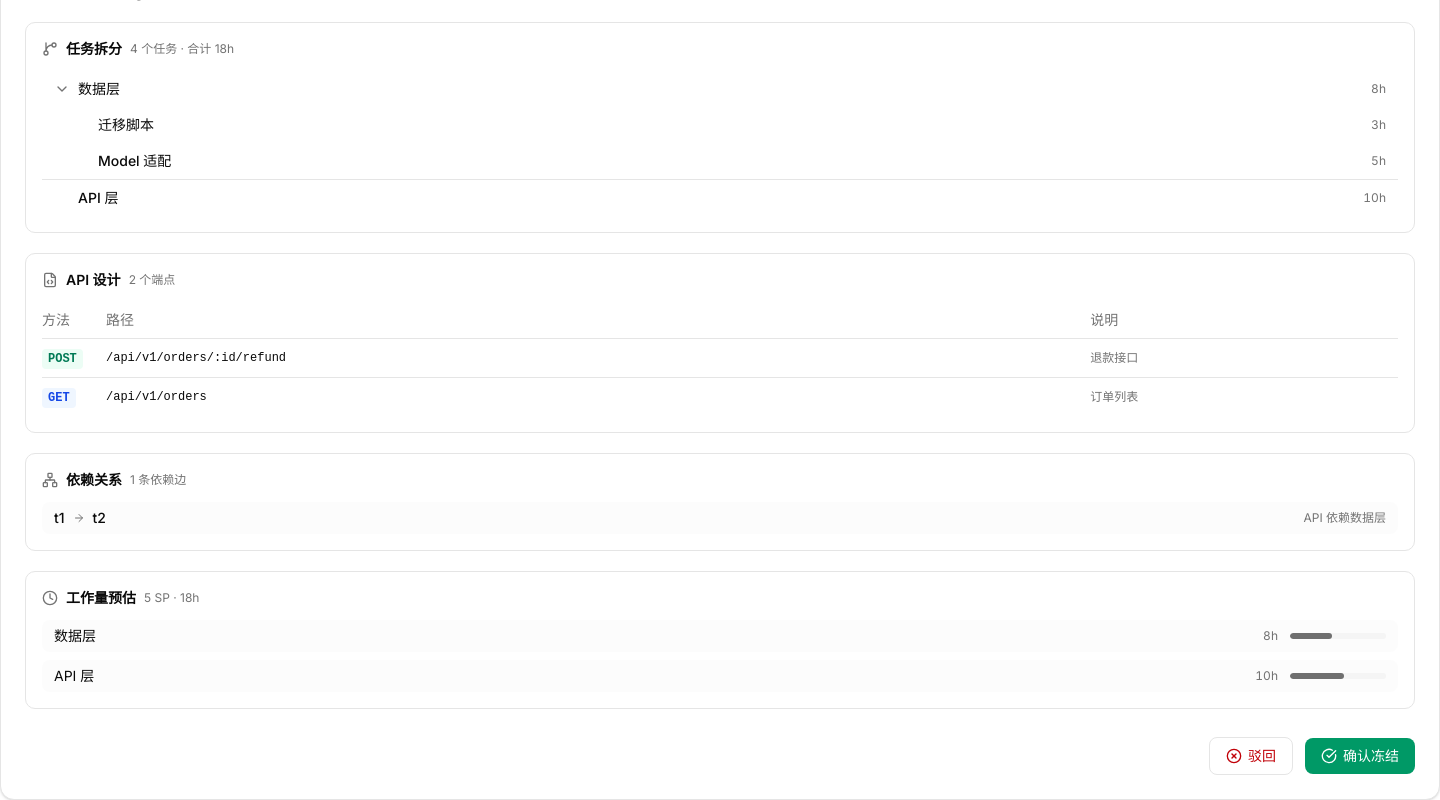
PlanReviewPanel › opens reject dialog with required reason field
(page scrolled)
Click the button "驳回" at (1251, 756), box [1209,737,1293,775]
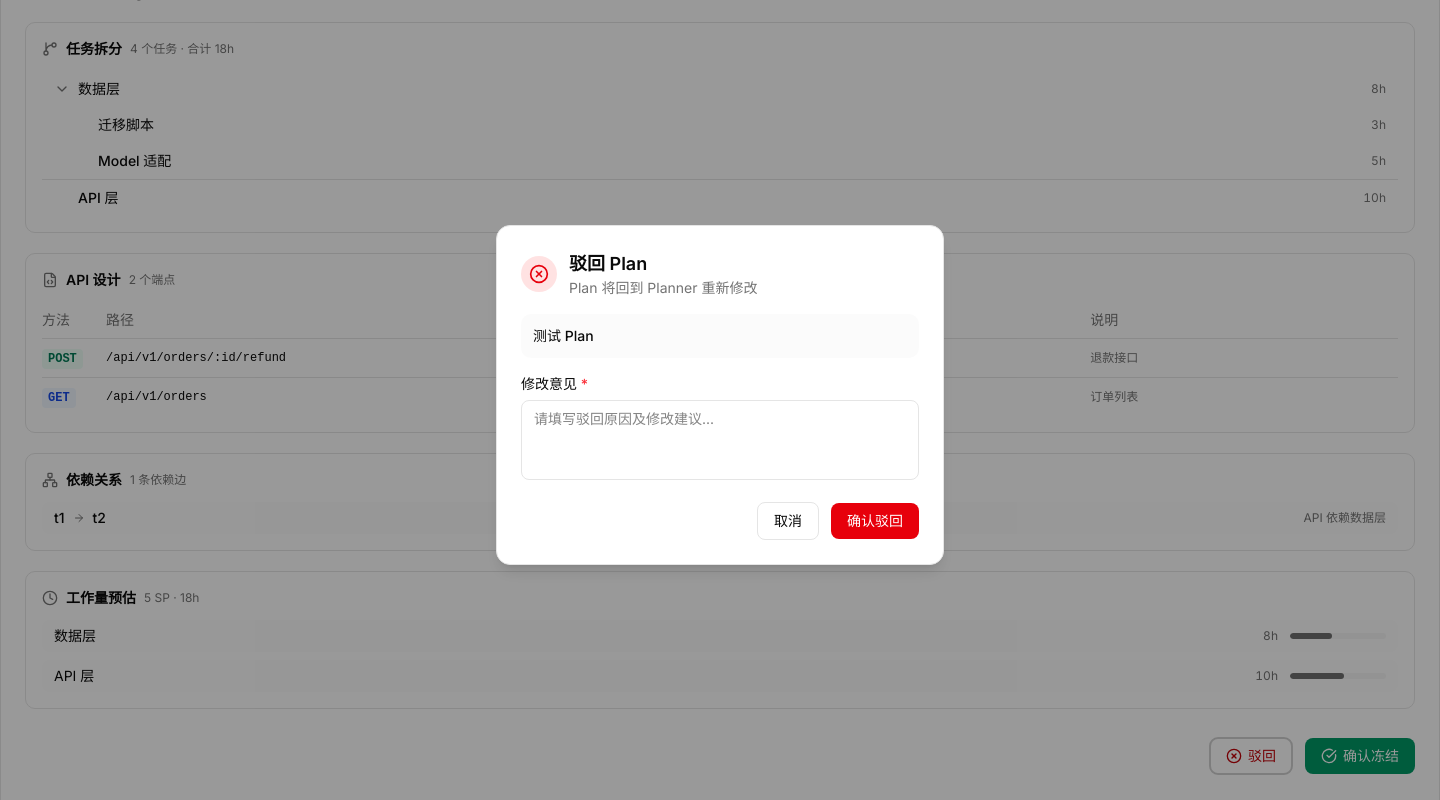
Check: the heading "驳回 Plan" is shown, box [569,253,647,274]
Check: the text box with placeholder "请填写驳回原因及修改建议..." is shown, box [521,400,919,480]
